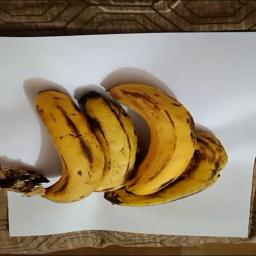Banana Semifresh: (6, 91, 105, 205), (110, 82, 197, 196), (80, 89, 137, 192)
